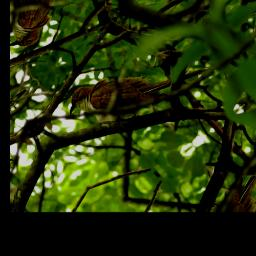Cuckoo: (58, 17, 211, 154)
